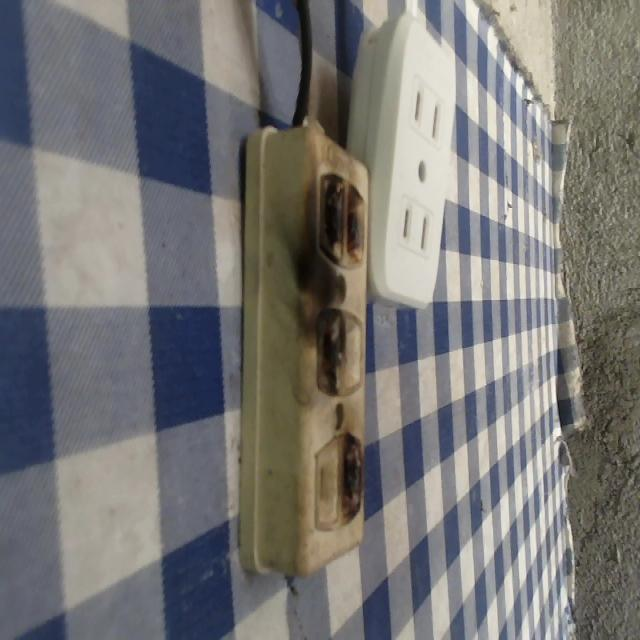-: (306, 170, 371, 274), (305, 303, 347, 404), (339, 432, 376, 520)
